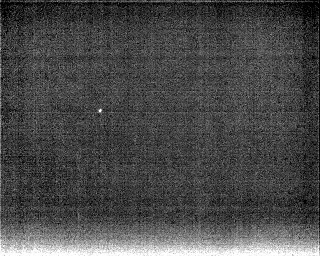BIRD: (96, 106, 104, 115)
